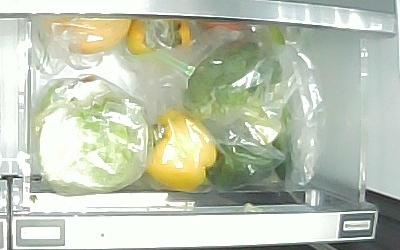broccoli_vinyl: (183, 41, 282, 145)
grapefruit_vinyl: (41, 19, 131, 57)
lettuce_vinyl: (35, 74, 148, 192)
paprika_vinyl: (145, 111, 217, 191), (207, 137, 296, 191)
persimmon_vinyl: (128, 19, 190, 56)
